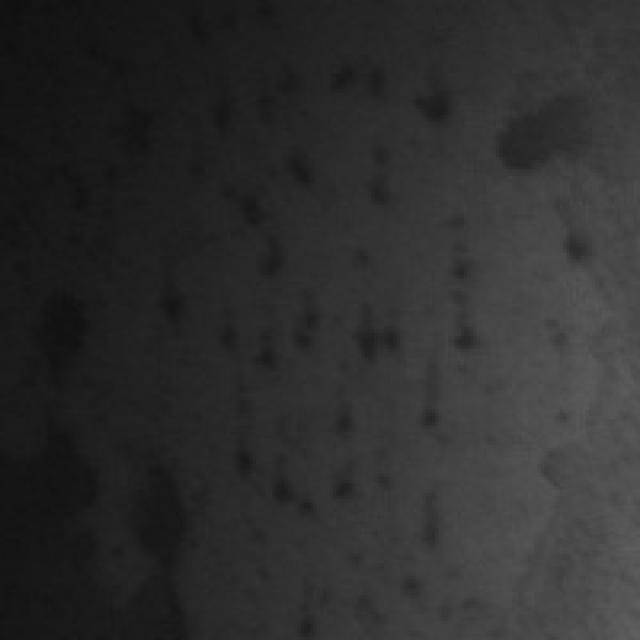pitted_surface: (202, 67, 592, 608), (10, 208, 147, 637)
